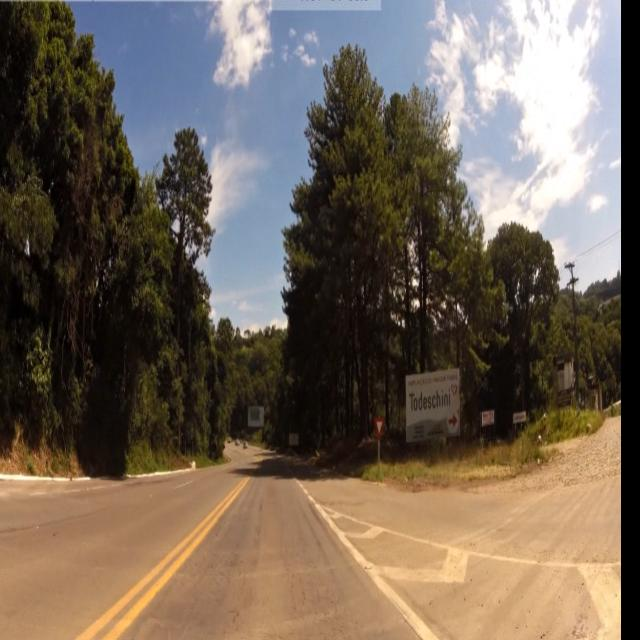R-2: (373, 418, 385, 440)
